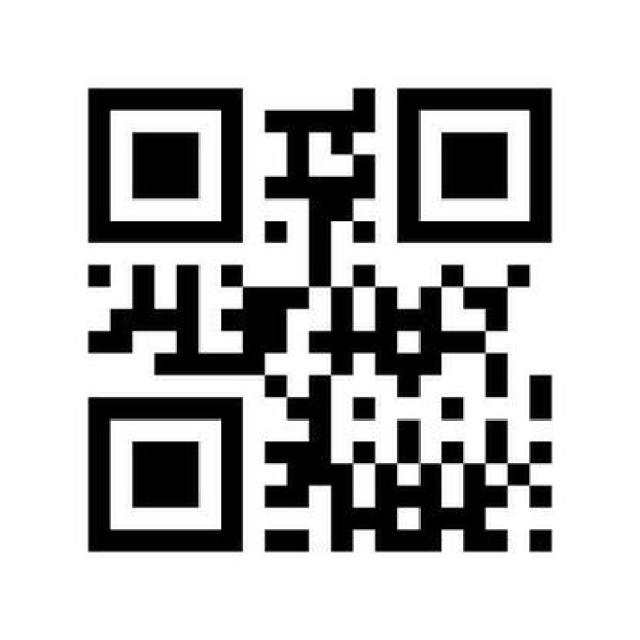QRCode: (64, 56, 582, 578)
